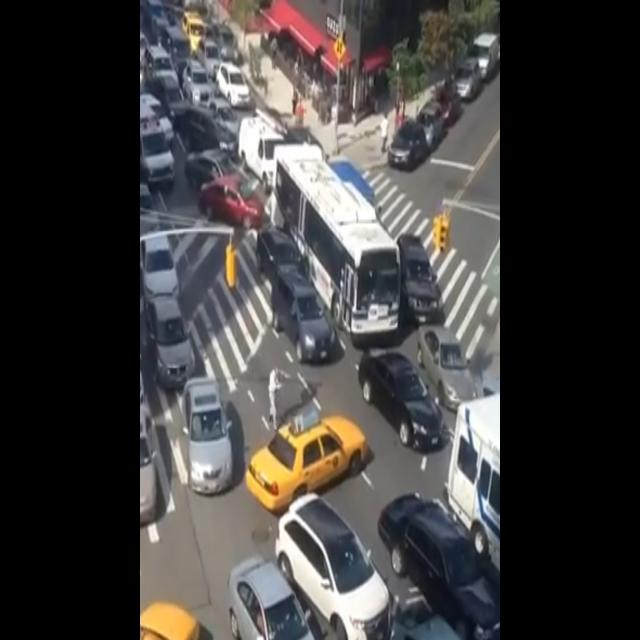Ambulance: (138, 100, 174, 188)
